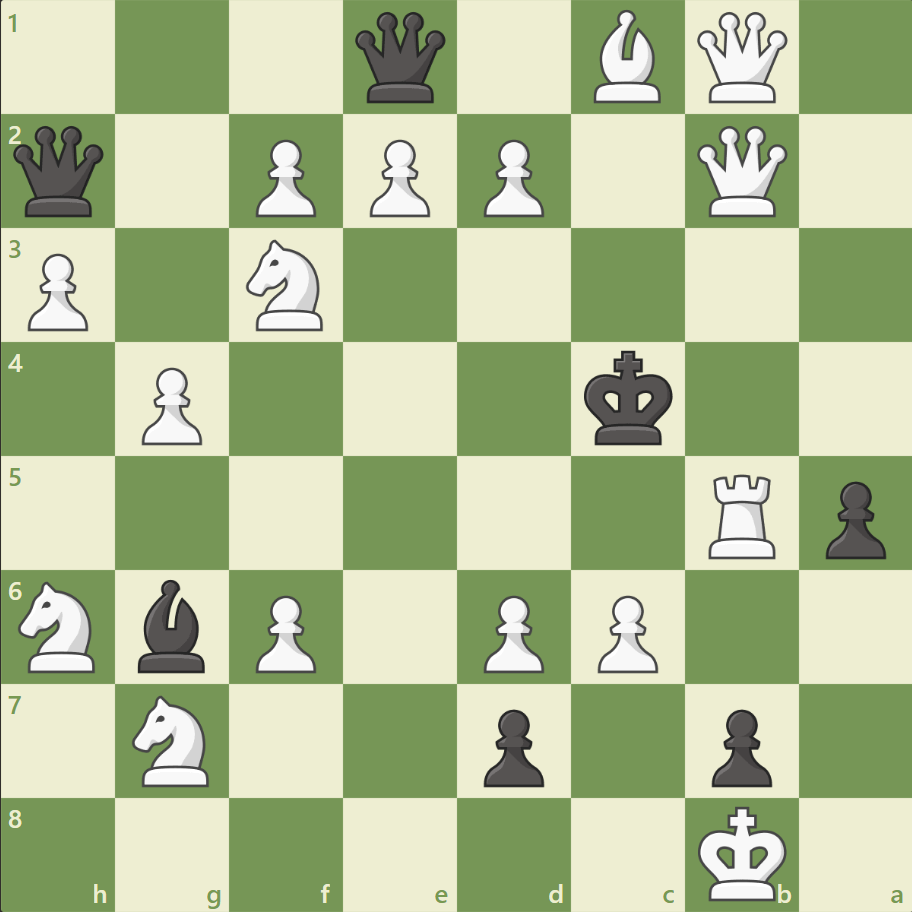B: (585, 6, 669, 109)
K: (692, 798, 792, 906)
N: (124, 688, 222, 791), (238, 234, 335, 337), (11, 575, 108, 677)
P: (474, 586, 549, 677), (247, 586, 322, 677), (133, 359, 208, 450), (20, 246, 95, 337), (474, 132, 549, 223), (247, 132, 322, 223), (588, 586, 662, 677), (361, 132, 435, 223)
Q: (691, 122, 790, 222), (691, 9, 790, 108)
R: (700, 466, 783, 563)
b: (131, 574, 215, 676)
k: (579, 344, 679, 452)
p: (701, 700, 776, 791), (474, 700, 549, 791), (815, 473, 889, 564)
q: (10, 122, 109, 222), (351, 9, 450, 108)
